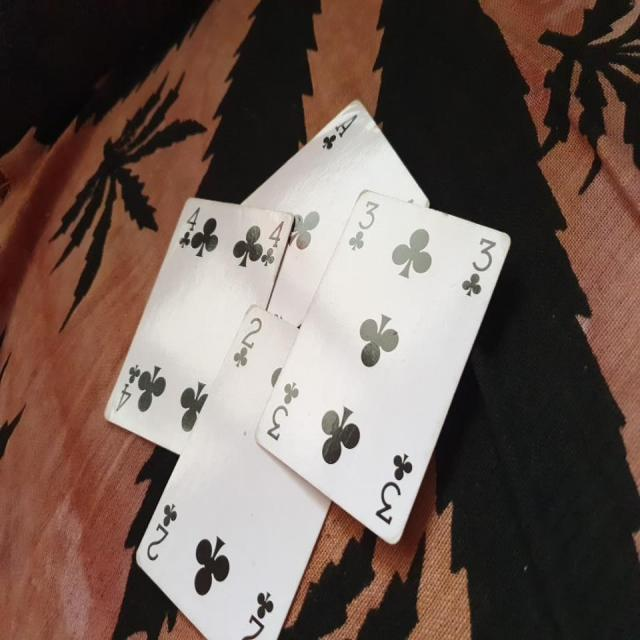2 Trefoils: (134, 304, 334, 640)
3 Trefoils: (252, 188, 513, 550)
4 Trefoils: (103, 196, 294, 454)
A Trefoils: (234, 98, 432, 324)
